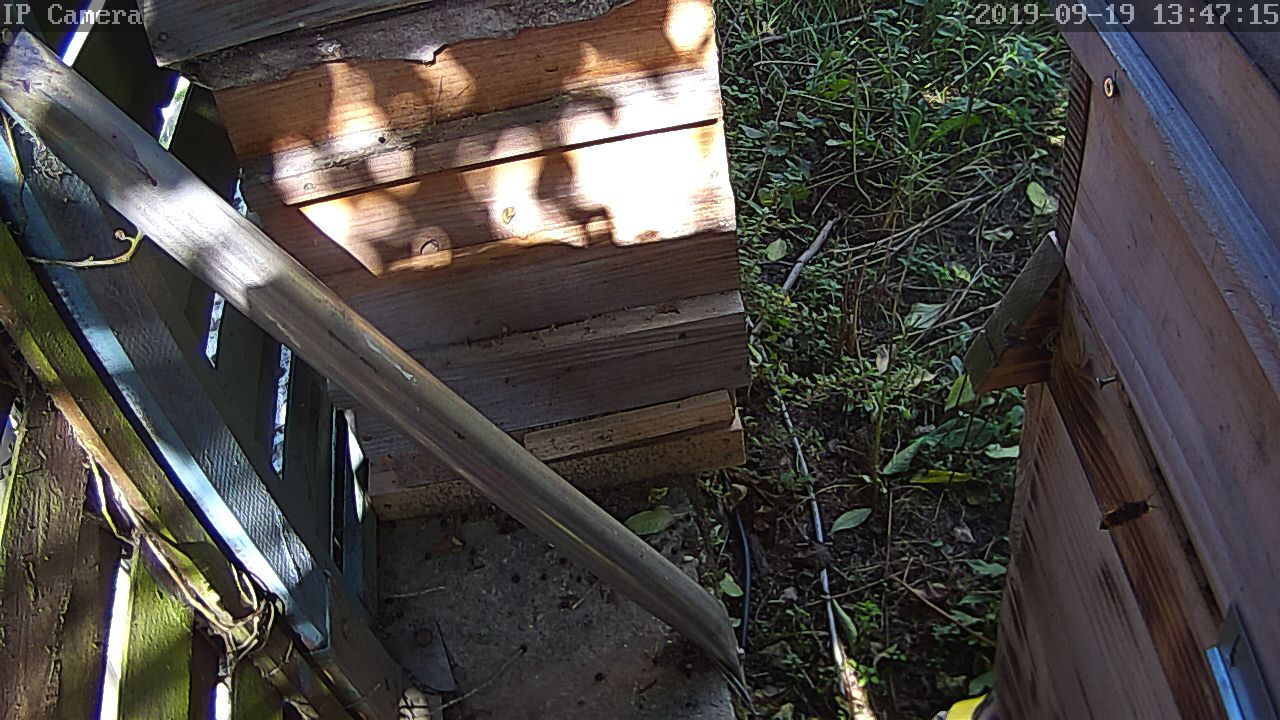hornet: (7, 17, 1247, 720)
